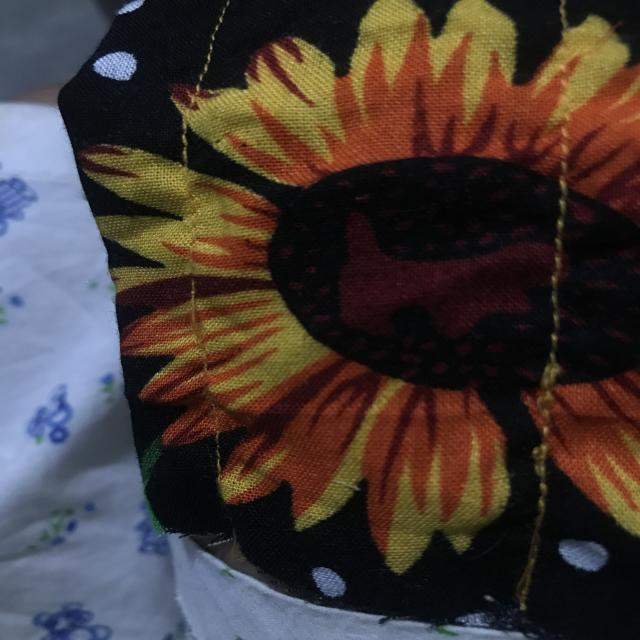skip: (172, 278, 224, 370)
